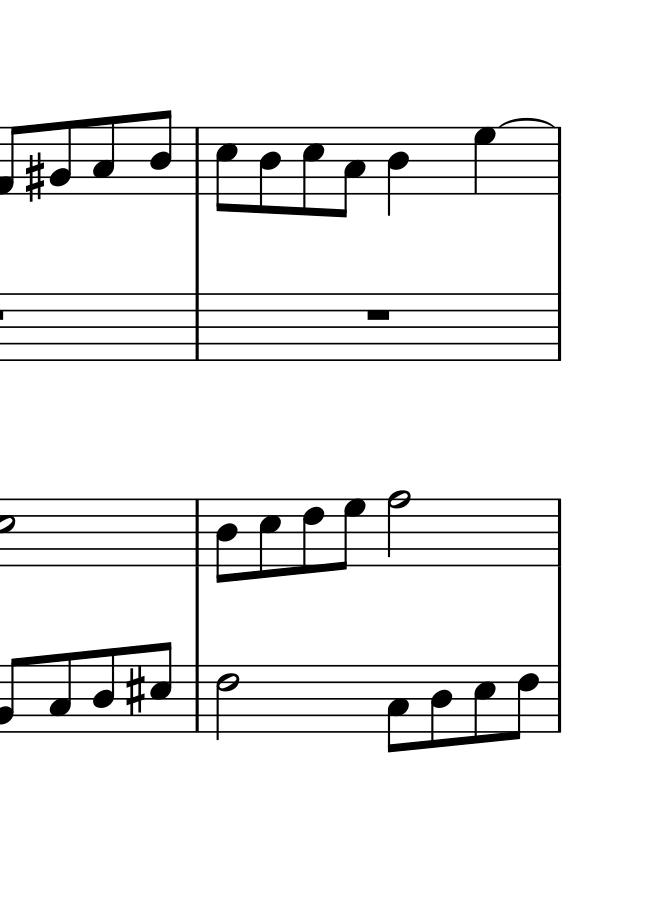2_6: (215, 665, 239, 740)
2_8: (386, 489, 411, 568)
4_4: (386, 127, 410, 217)
4_7: (472, 126, 497, 196)
8_1: (1, 123, 23, 196)
8_2: (48, 118, 73, 197)
8_3: (337, 126, 367, 220), (385, 664, 410, 755), (47, 651, 74, 735), (91, 115, 115, 197)
8_4: (258, 126, 283, 216), (429, 663, 454, 749), (92, 646, 116, 735), (149, 109, 173, 196), (215, 498, 239, 584)
8_5: (300, 124, 325, 218), (148, 640, 173, 734), (214, 125, 238, 213), (257, 497, 282, 581), (472, 662, 496, 745)
8_6: (510, 665, 541, 741), (301, 496, 325, 574)
8_7: (335, 496, 366, 571)
Rests1: (363, 305, 392, 323)
Sharp: (125, 664, 146, 718), (24, 152, 45, 205)
Single_barline: (550, 125, 570, 194), (549, 293, 566, 362), (550, 499, 566, 565), (190, 664, 205, 734), (551, 664, 566, 734), (189, 500, 204, 567), (189, 127, 204, 193), (190, 293, 204, 361)
Slur: (498, 117, 553, 129)
